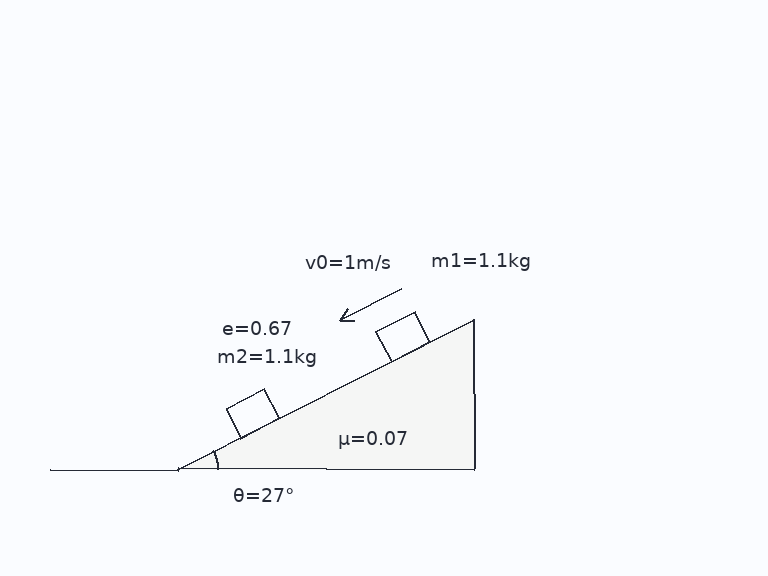block: (374, 310, 431, 363), (223, 387, 281, 439)
ramp: (176, 316, 476, 471)
